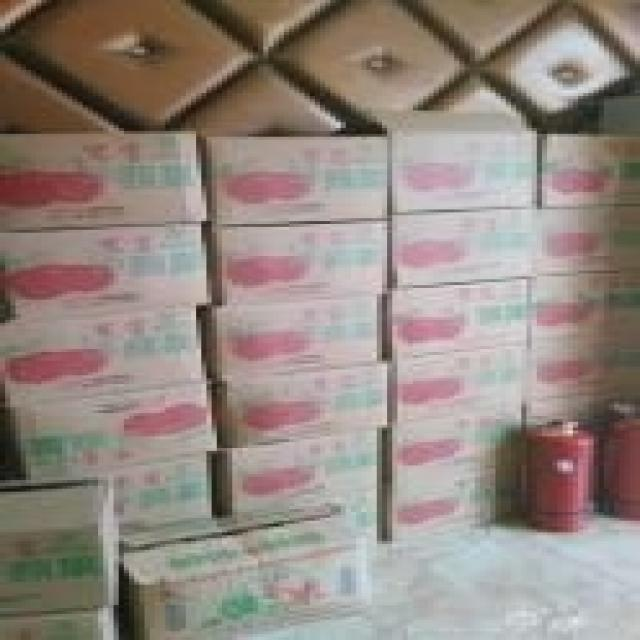box: (119, 489, 377, 640), (0, 305, 212, 410), (0, 131, 212, 230), (330, 111, 537, 212), (15, 384, 222, 480), (0, 224, 212, 317), (0, 474, 119, 614), (201, 294, 382, 384), (206, 137, 392, 224), (206, 221, 387, 305), (26, 451, 217, 529), (212, 428, 377, 515), (217, 364, 387, 448), (387, 207, 537, 288), (387, 279, 532, 361), (387, 343, 526, 425), (387, 404, 521, 486), (387, 463, 521, 544), (526, 329, 640, 399), (537, 131, 640, 207), (532, 207, 640, 276), (532, 271, 640, 340), (526, 390, 635, 428), (0, 608, 119, 640), (356, 497, 377, 544)
